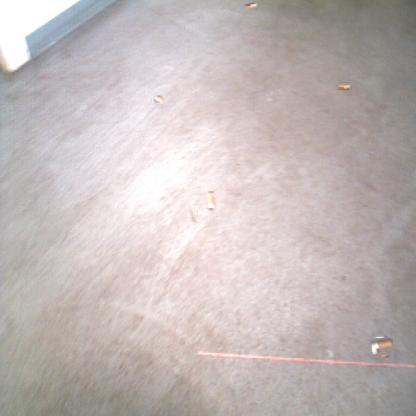dirty: (371, 336, 391, 356), (206, 192, 216, 210), (336, 82, 352, 90), (244, 2, 258, 10), (152, 94, 163, 104)
mark: (186, 206, 198, 224), (340, 273, 349, 283)
